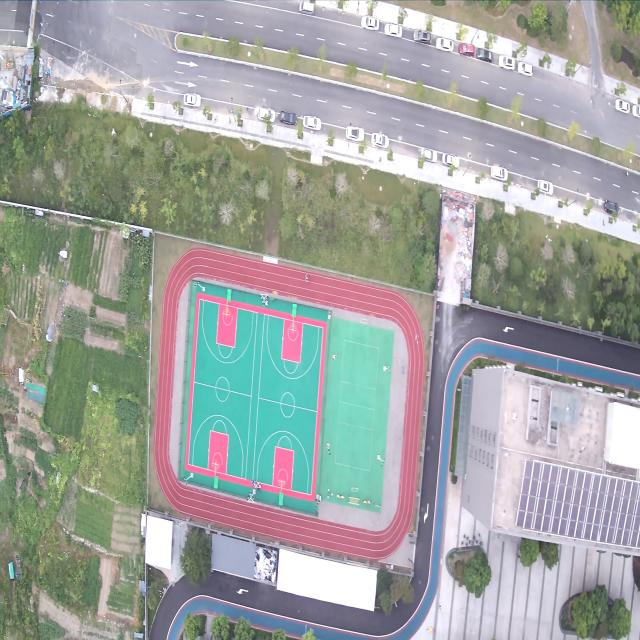drone: (413, 332, 419, 344)
